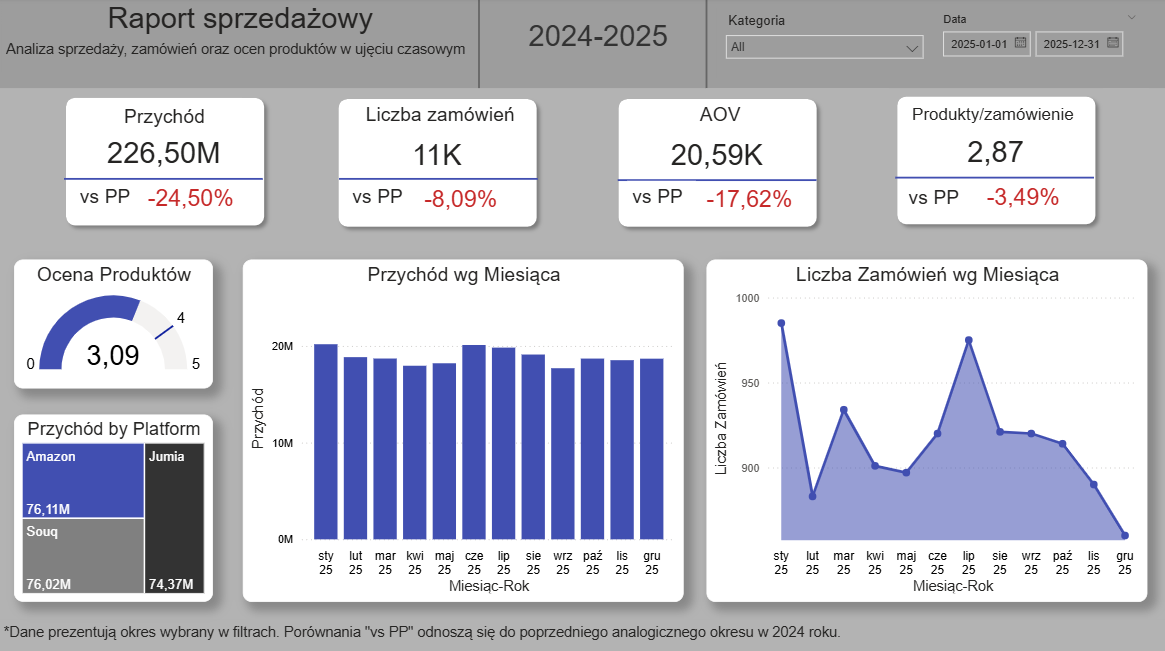

This screenshot's page, from the dashboard's own definition file:
{"tool":"powerbi","page":{"name":"Strona 1","canvas":[1280,720],"ordinal":0},"visuals":[{"type":"shape","box":[0,0,1280.3,100.2],"z":0},{"type":"textbox","box":[2.7,0,524.2,63.1],"z":1000},{"type":"shape","box":[63.8,101.1,235.6,158.3],"z":2000},{"type":"card","fields":{"Values":["_Metrics.Przychód"]},"box":[94.7,148.2,172.9,45.3],"z":3000},{"type":"textbox","box":[105.5,113.3,152.1,44.2],"z":4000},{"type":"shape","box":[71.6,181.4,218.2,37],"z":5000},{"type":"card","fields":{"Values":["_Metrics.Wzrost %"]},"box":[156.4,204.5,108.4,32.9],"z":6000},{"type":"textbox","box":[83.7,201.7,72.7,43.9],"z":7000},{"type":"shape","box":[363.6,102.3,235.6,158.3],"z":8000},{"type":"card","fields":{"Values":["_Metrics.Liczba Zamówień"]},"box":[405.3,148.9,152.1,45.4],"z":9000},{"type":"textbox","box":[392.7,112.3,183.9,43.9],"z":10000},{"type":"shape","box":[373.5,181.4,218.2,37],"z":11000},{"type":"card","fields":{"Values":["_Metrics.Liczba zamówień vs PP %"]},"box":[456.9,205.8,100.2,32.9],"z":12000},{"type":"textbox","box":[382.8,201.7,74.1,43.9],"z":13000},{"type":"gauge","title":"Ocena Produktów","fields":{"Y":["_Metrics.Średnia Ocena"],"TargetValue":["_Metrics.Ocena Target"],"MaxValue":["_Metrics.Ocena MAX"],"MinValue":["_Metrics.Ocena MIN"]},"box":[16.5,288.2,218.2,141.3],"z":14000},{"type":"shape","box":[671.1,102.4,235.6,158.3],"z":15000},{"type":"card","fields":{"Values":["_Metrics.AOV"]},"box":[712.8,149,152.1,45.4],"z":16000},{"type":"textbox","box":[700.2,112.4,183.9,43.9],"z":17000},{"type":"shape","box":[679.5,182.8,218.2,37],"z":18000},{"type":"card","fields":{"Values":["_Metrics.AOV vs PP %"]},"box":[764.3,205.8,119.4,32.9],"z":19000},{"type":"textbox","box":[690.2,201.7,74.1,43.9],"z":20000},{"type":"shape","box":[976.4,100.3,235.6,158.3],"z":21000},{"type":"card","fields":{"Values":["_Metrics.Śr. liczba produktów / zamówienie"]},"box":[1018.1,147,152.1,45.4],"z":22000},{"type":"textbox","box":[993.5,113.9,200.3,43.9],"z":23000},{"type":"shape","box":[984.2,180,218.2,37],"z":24000},{"type":"card","fields":{"Values":["_Metrics.Produkty / zamówienie vs PP %"]},"box":[1069,203.1,111.1,32.9],"z":25000},{"type":"textbox","box":[993.5,203.1,75.5,43.9],"z":26000},{"type":"stackedAreaChart","title":"Liczba Zamówień wg Miesiąca","fields":{"Y":["_Metrics.Liczba Zamówień"],"Category":["dim_date.Miesiąc-Rok"]},"box":[776.7,288.2,484.4,376],"z":27000},{"type":"columnChart","title":"Przychód wg Miesiąca","fields":{"Y":["_Metrics.Przychód"],"Category":["dim_date.Miesiąc-Rok"]},"box":[267.6,288.2,484.4,376],"z":28000},{"type":"slicer","fields":{"Values":["dim_date.Date"]},"box":[1023.7,12.3,237.4,76.8],"z":29000},{"type":"slicer","fields":{"Values":["dim_categories.Category"]},"box":[787.7,12.3,237.4,76.8],"z":30000},{"type":"textbox","box":[2.7,43.9,584.6,38.4],"z":31000},{"type":"textbox","box":[576.3,20.6,166,60.4],"z":32000},{"type":"textbox","box":[0,683.4,1280.3,37],"z":33000},{"type":"treemap","fields":{"Group":["dim_platforms.Platform"],"Values":["_Metrics.Przychód"]},"box":[16.5,458.3,218.2,205.8],"z":34000},{"type":"shape","box":[507.7,0,38.4,100.2],"z":35000},{"type":"shape","box":[757.5,0,38.4,100.2],"z":36000}]}

Visuals, with their boxes in screenshot pixels (x1, y1, x2, y2), scaled from the page's 1280x720 canvas onto the 1165x651 screenshot:
shape: rect(0, 0, 1164, 91)
textbox: rect(2, 0, 480, 57)
shape: rect(58, 91, 273, 235)
card - _Metrics.Przychód: rect(86, 134, 244, 175)
textbox: rect(96, 102, 234, 142)
shape: rect(65, 164, 264, 197)
card - _Metrics.Wzrost %: rect(142, 185, 241, 215)
textbox: rect(76, 182, 142, 222)
shape: rect(331, 92, 545, 236)
card - _Metrics.Liczba Zamówień: rect(369, 135, 507, 176)
textbox: rect(357, 102, 525, 141)
shape: rect(340, 164, 539, 197)
card - _Metrics.Liczba zamówień vs PP %: rect(416, 186, 507, 216)
textbox: rect(348, 182, 416, 222)
"Ocena Produktów" gauge: rect(15, 261, 214, 388)
shape: rect(611, 93, 825, 236)
card - _Metrics.AOV: rect(649, 135, 787, 176)
textbox: rect(637, 102, 805, 141)
shape: rect(618, 165, 817, 199)
card - _Metrics.AOV vs PP %: rect(696, 186, 804, 216)
textbox: rect(628, 182, 696, 222)
shape: rect(889, 91, 1103, 234)
card - _Metrics.Śr. liczba produktów / zamówienie: rect(927, 133, 1065, 174)
textbox: rect(904, 103, 1087, 143)
shape: rect(896, 163, 1094, 196)
card - _Metrics.Produkty / zamówienie vs PP %: rect(973, 184, 1074, 213)
textbox: rect(904, 184, 973, 223)
"Liczba Zamówień wg Miesiąca" stackedAreaChart: rect(707, 261, 1148, 601)
"Przychód wg Miesiąca" columnChart: rect(244, 261, 684, 601)
slicer - dim_date.Date: rect(932, 11, 1148, 81)
slicer - dim_categories.Category: rect(717, 11, 933, 81)
textbox: rect(2, 40, 535, 74)
textbox: rect(525, 19, 676, 73)
textbox: rect(0, 618, 1164, 650)
treemap - dim_platforms.Platform x _Metrics.Przychód: rect(15, 414, 214, 600)
shape: rect(462, 0, 497, 91)
shape: rect(689, 0, 724, 91)
